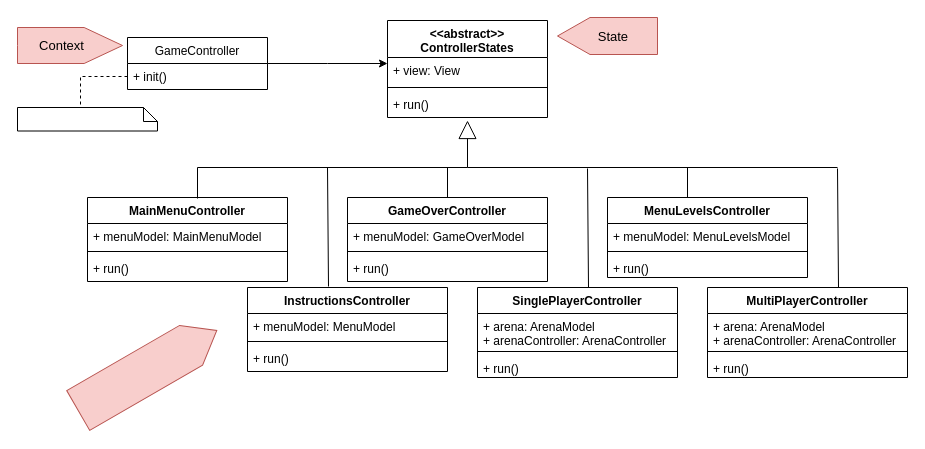
The diagram is 925 pixels wide and 449 high, and some of its shapes have lost their labels. Here are the shapes that lost their labels. From the top down, the centre of each, then its label:
At pixel 87 118: "StateController.run()".
At pixel 147 370: "ConcreteStates".
